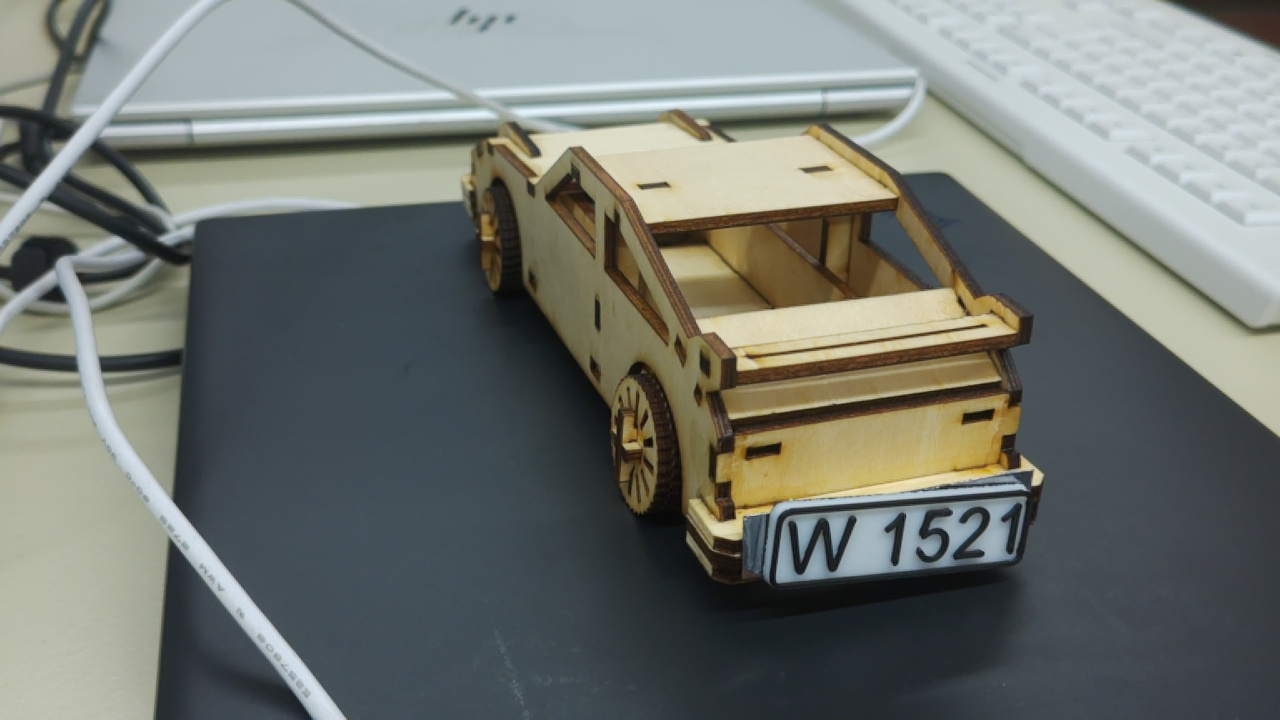license_plate: (759, 469, 1030, 598)
